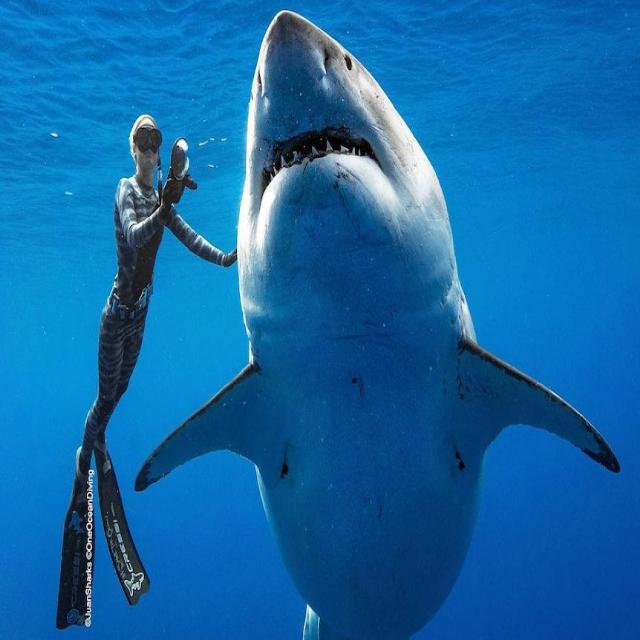shark: (136, 10, 619, 639)
